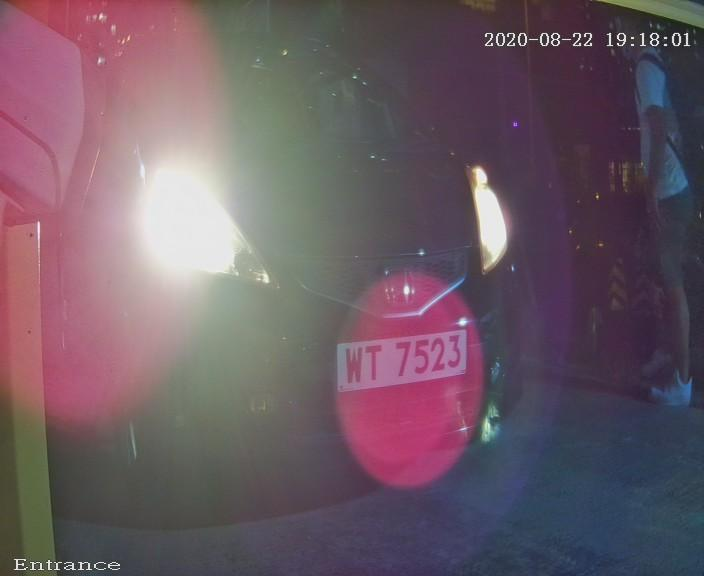Car: (38, 24, 610, 541)
License Plate: (317, 317, 493, 409)
